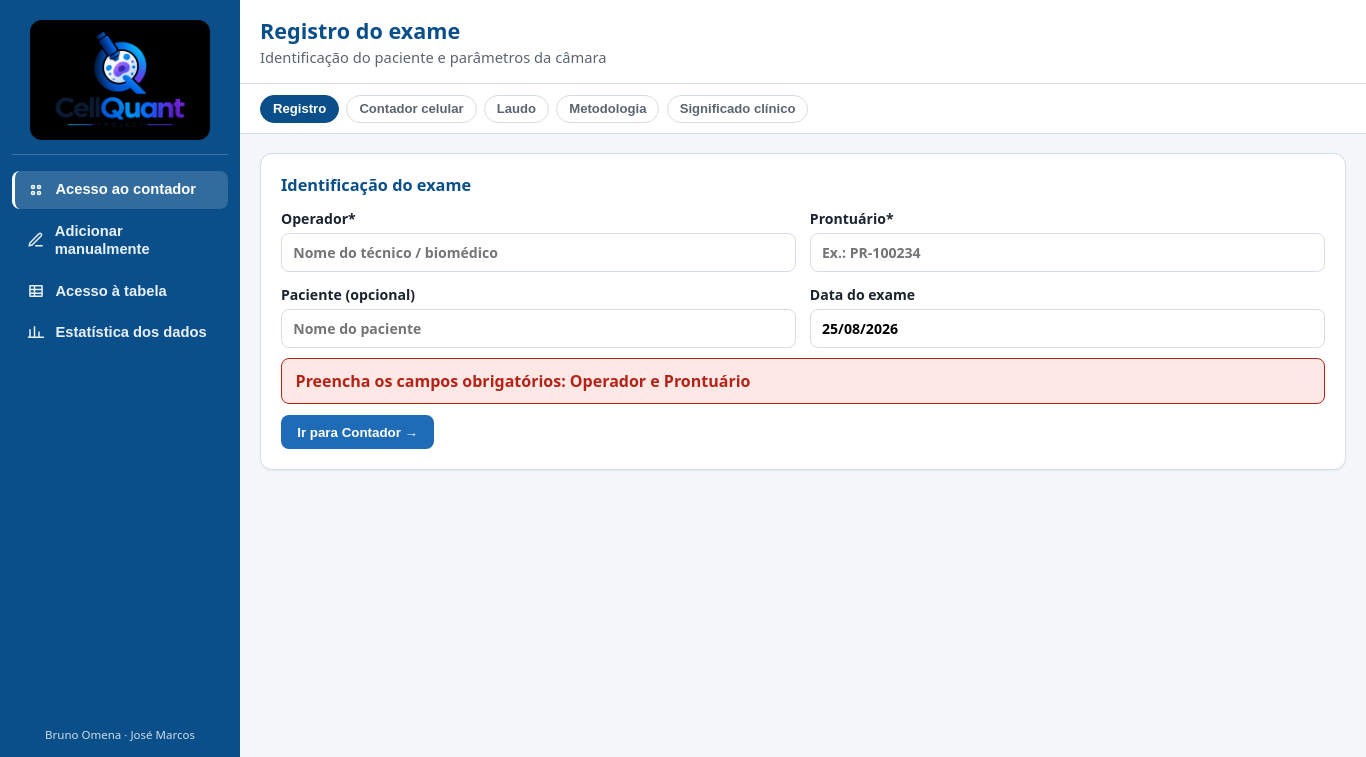
Test: layout monopage › menu lateral tem 4 modulos e o contador navega no topo
Expected: the heading "Registro do exame" is shown, [260, 16, 460, 45]
Expected: the picture named "CellQuant" is shown, [30, 20, 210, 140]
Click the button "Acesso à tabela" at (120,291), box [12, 272, 228, 310]
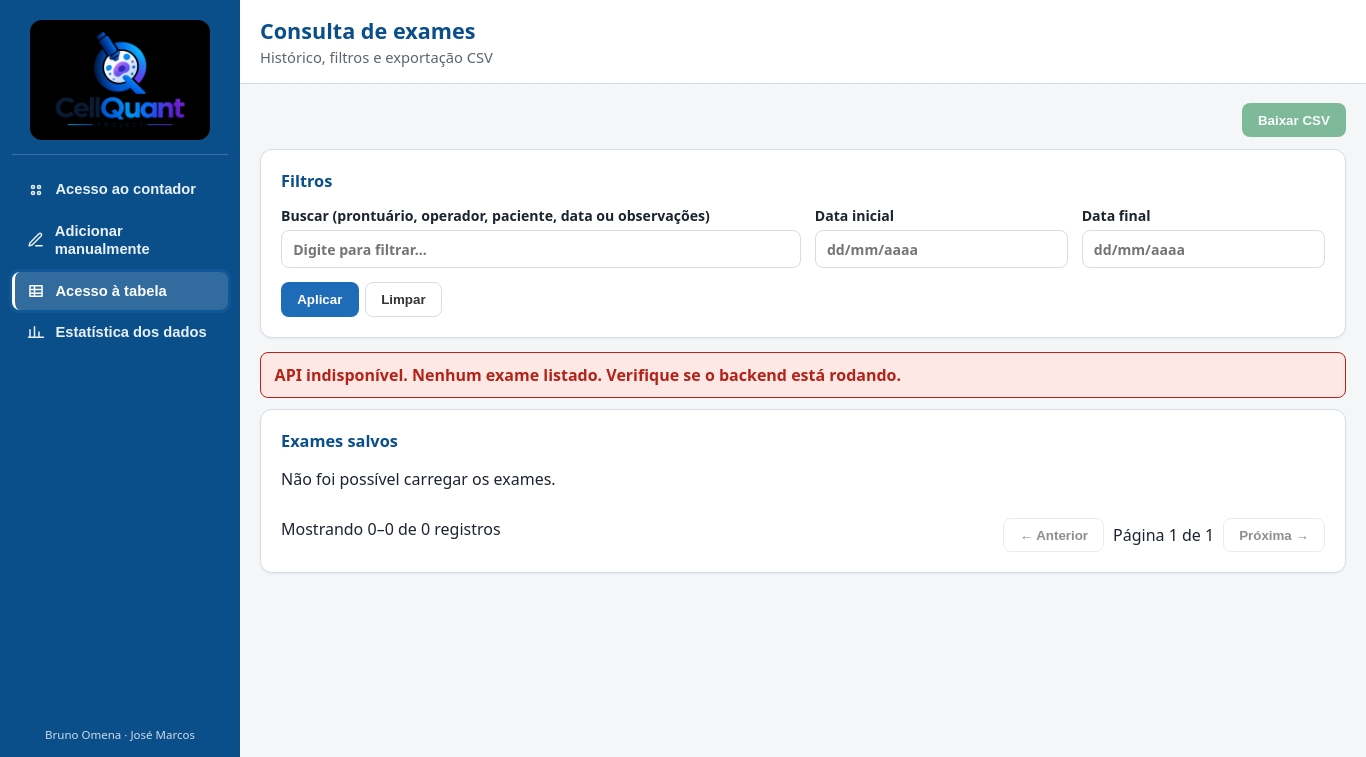
Expected: the heading "Consulta de exames" is shown, [260, 16, 493, 45]
Click the button "Acesso ao contador" at (120,190), box [12, 171, 228, 209]
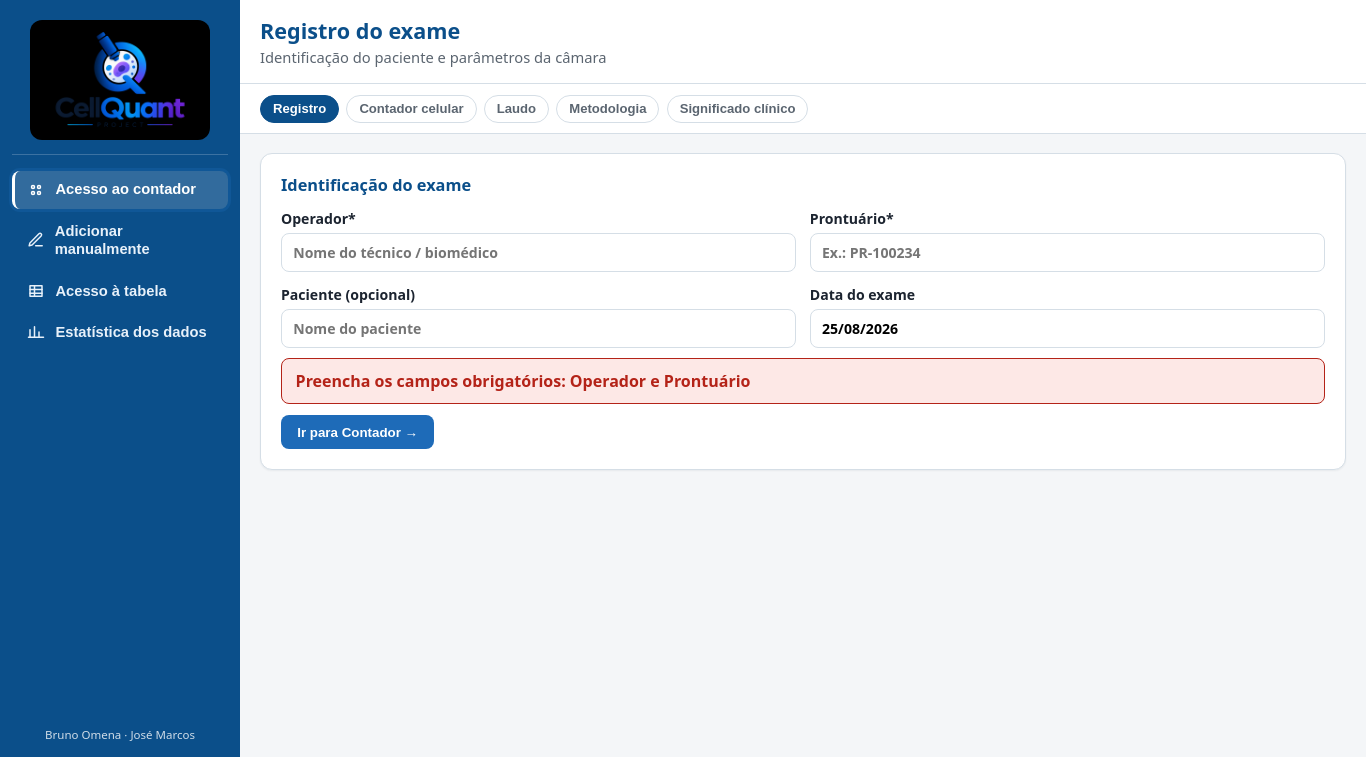
Expected: the heading "Registro do exame" is shown, [260, 16, 460, 45]
Click the button "Adicionar manualmente" at (120,240), box [12, 212, 228, 269]
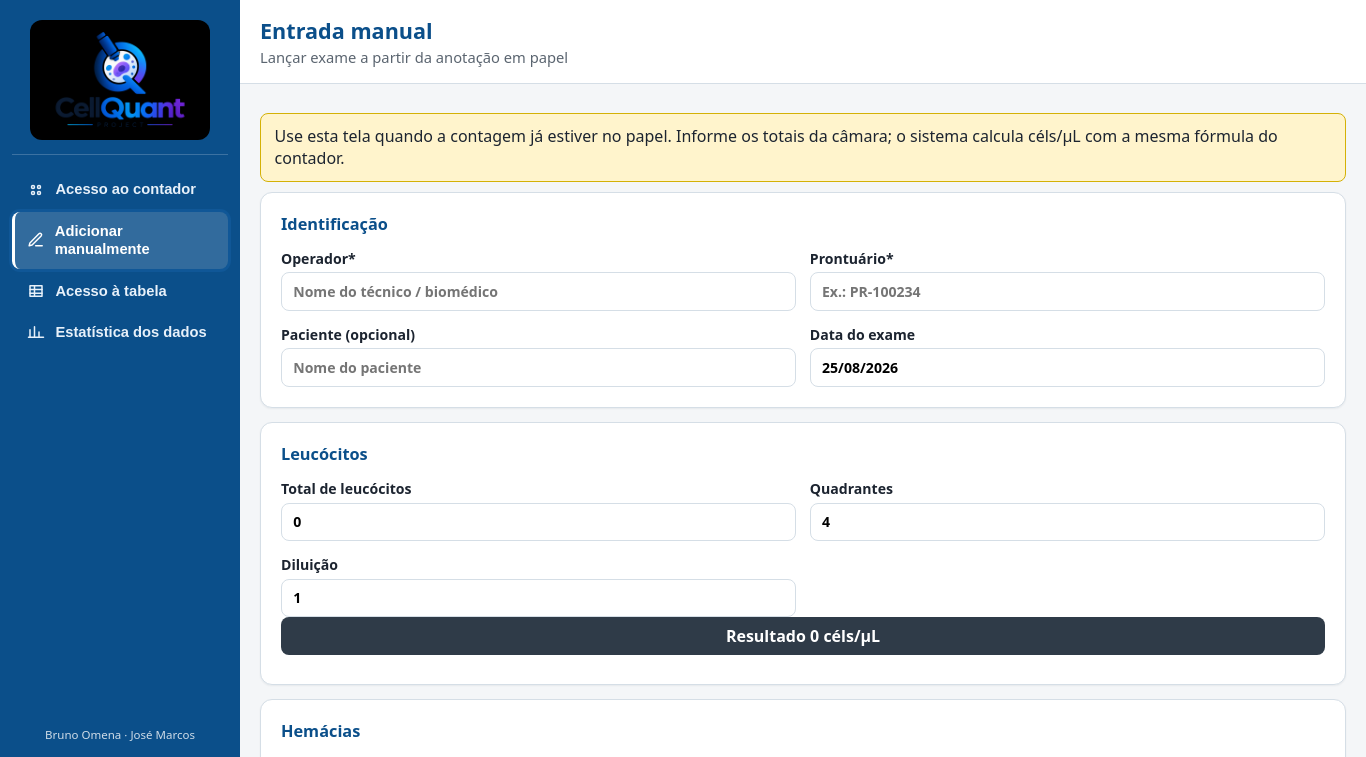
Expected: the heading "Entrada manual" is shown, [260, 16, 433, 45]
Click the button "Acesso ao contador" at (120,190), box [12, 171, 228, 209]
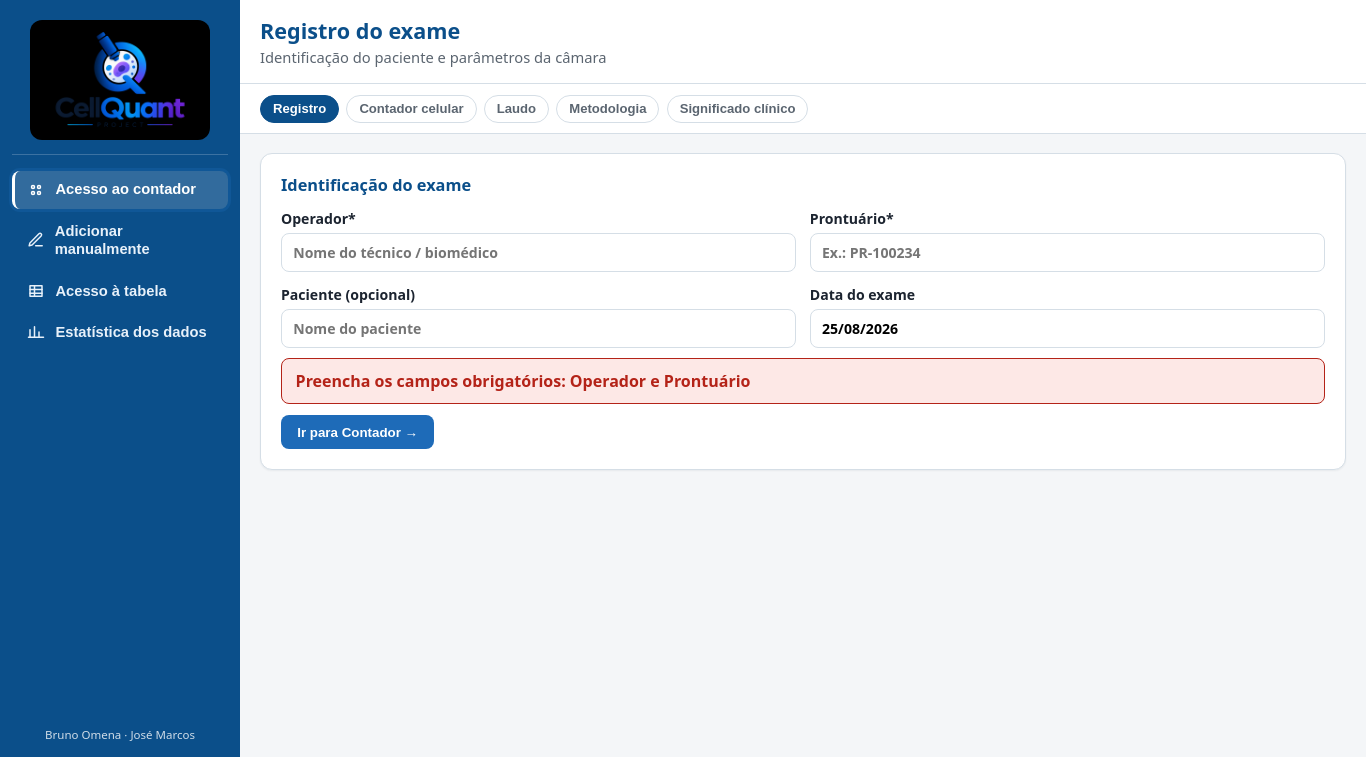
Click the button "Metodologia" at (608,109), box [556, 95, 660, 123]
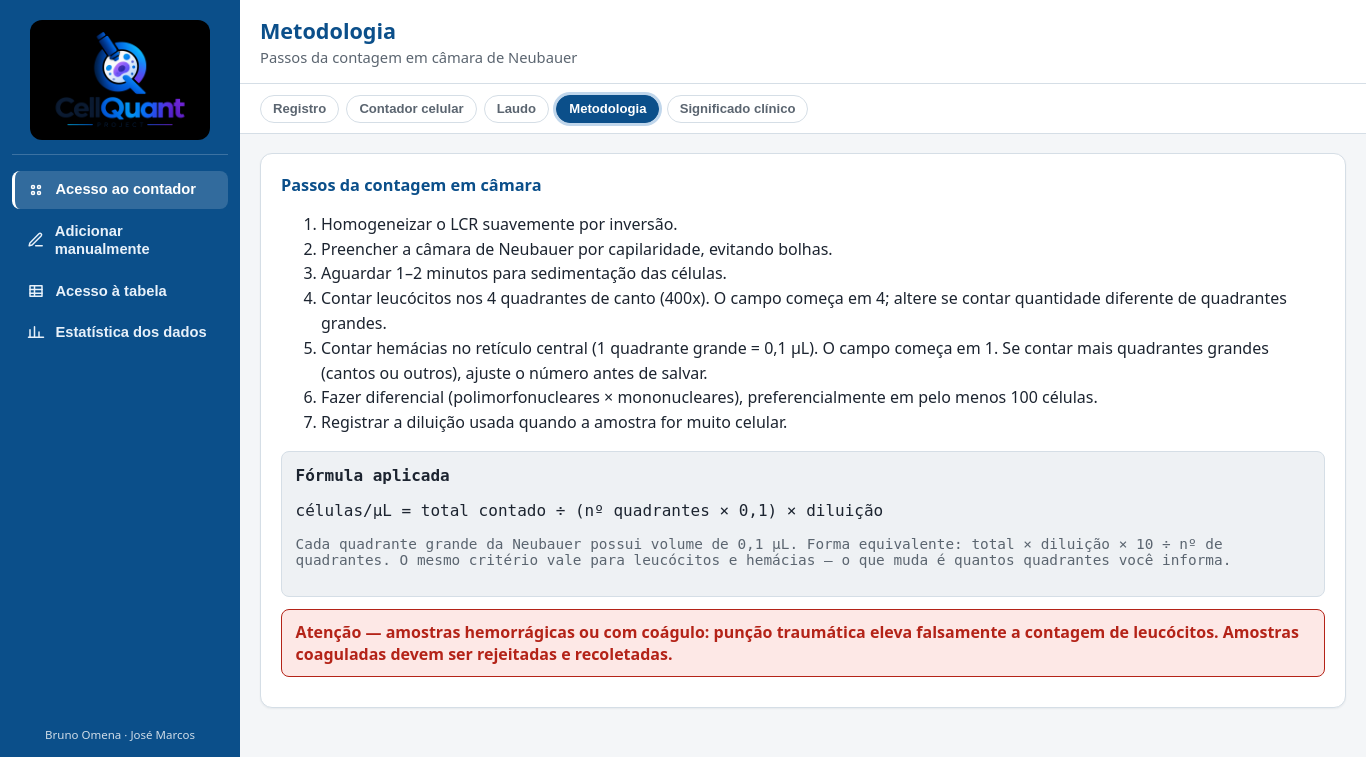
Expected: the heading "Metodologia" is shown, [260, 16, 396, 45]
Expected: the heading "Passos da contagem em câmara" is shown, [281, 174, 542, 196]
Click the button "Estatística dos dados" at (120,332), box [12, 313, 228, 351]
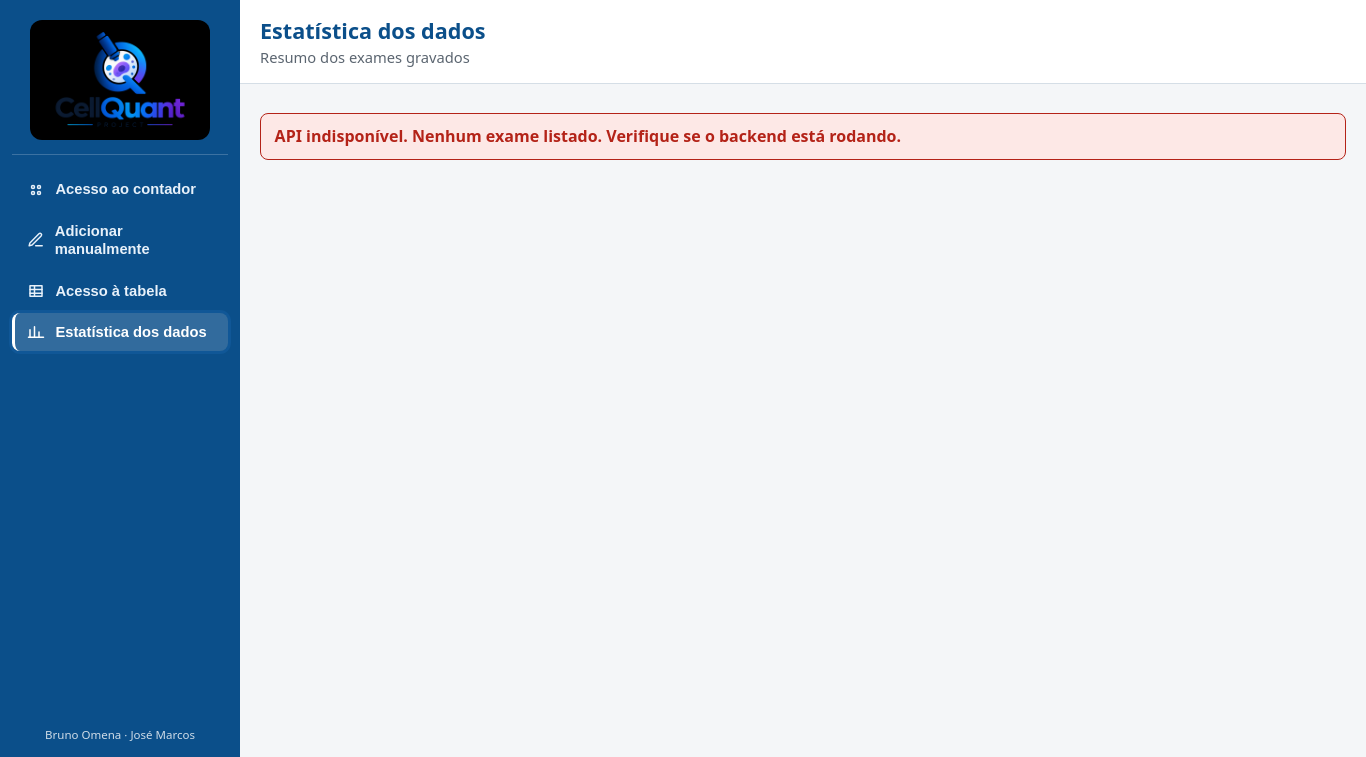
Expected: the heading "Estatística dos dados" is shown, [260, 16, 486, 45]
